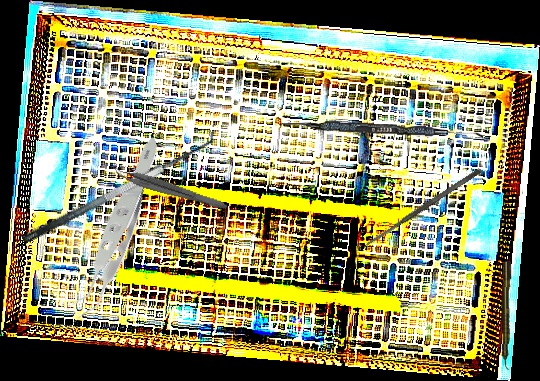Handpiece: (500, 260, 512, 371)
Spatula Surgical: (12, 123, 221, 246), (363, 166, 483, 249), (281, 119, 484, 139)
Tissue Forceps: (11, 136, 215, 325), (110, 163, 230, 212)
